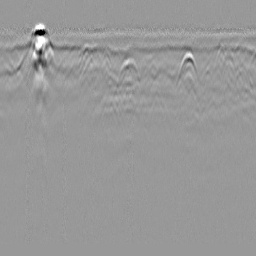cavity: (117, 55, 141, 82)
